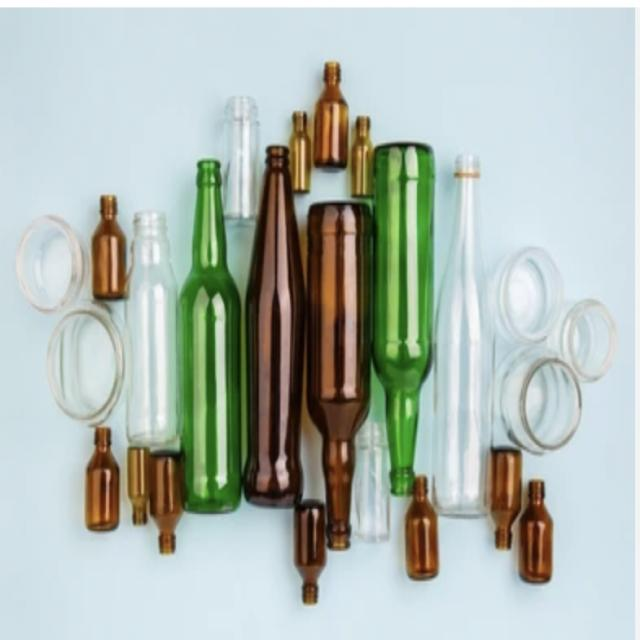recyclable: (298, 181, 381, 550), (172, 142, 248, 534), (371, 136, 443, 504), (439, 126, 495, 524)
